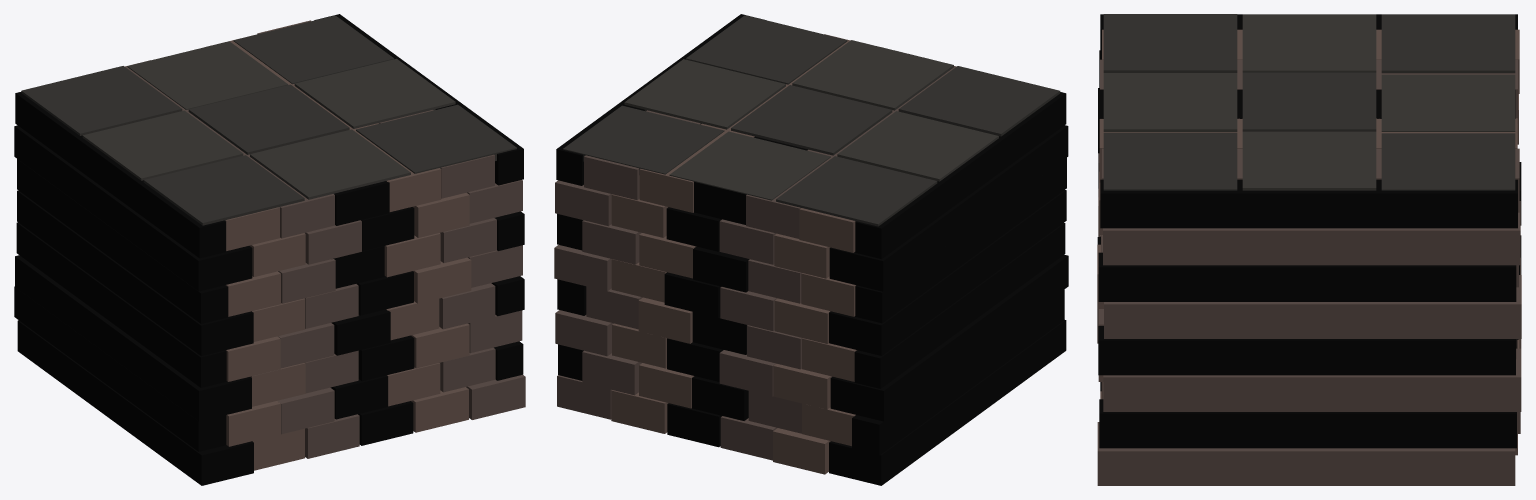
Rendered from wall_brick_a.glb.
3 views of the same model, side by side, from view 1: azimuth 30°, elevation 25°; view 2: azimuth 150°, elevation 25°; view 3: azimuth 270°, elevation 25° (orthographic). The views are drawn at different scales.
Visible parts, largest first — view 1: WallBrick; view 2: WallBrick; view 3: WallBrick.
Boxes of the visible parts, <box> form: WallBrick: <box>14,14,525,485</box>; WallBrick: <box>554,14,1068,485</box>; WallBrick: <box>1097,14,1521,485</box>.
Bounding box in the file's own units: 3.95 × 3.02 × 3.92.
